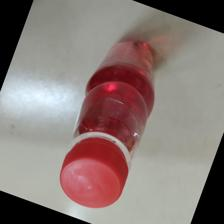Sting: (56, 33, 158, 211)
